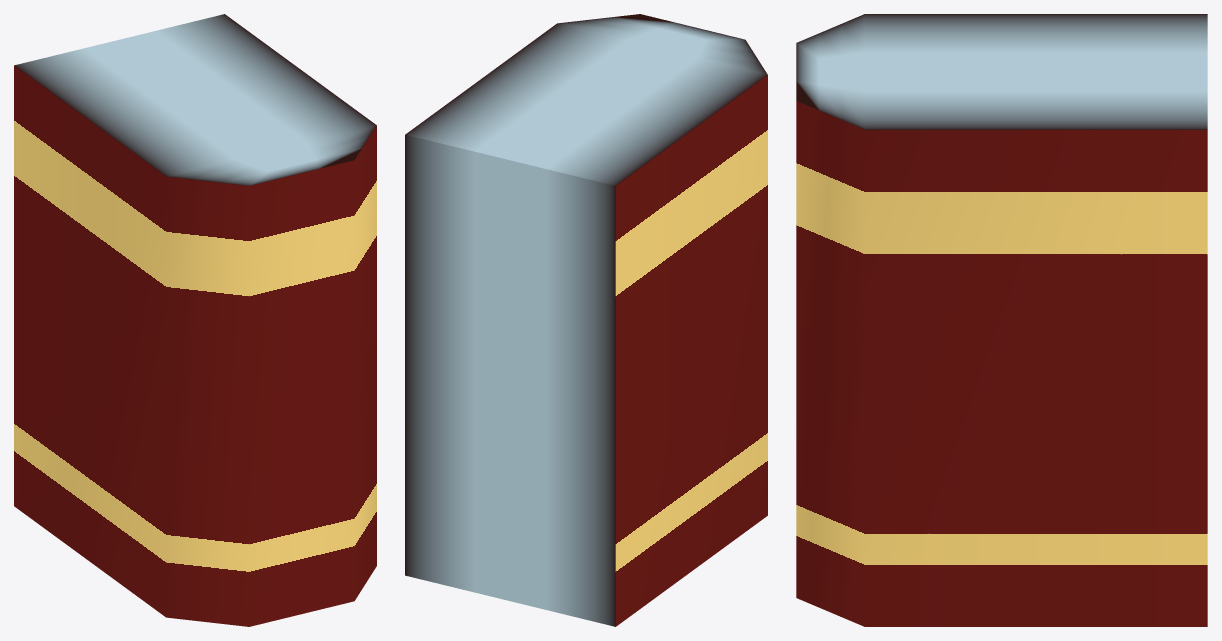
The model's file is book_01.gltf.
3 views of the same model, side by side, from view 1: azimuth 30°, elevation 25°; view 2: azimuth 150°, elevation 25°; view 3: azimuth 270°, elevation 25° (orthographic). The views are drawn at different scales.
Bounding box in the file's own units: 2 × 4 × 3.
1 material, 1 textured.
